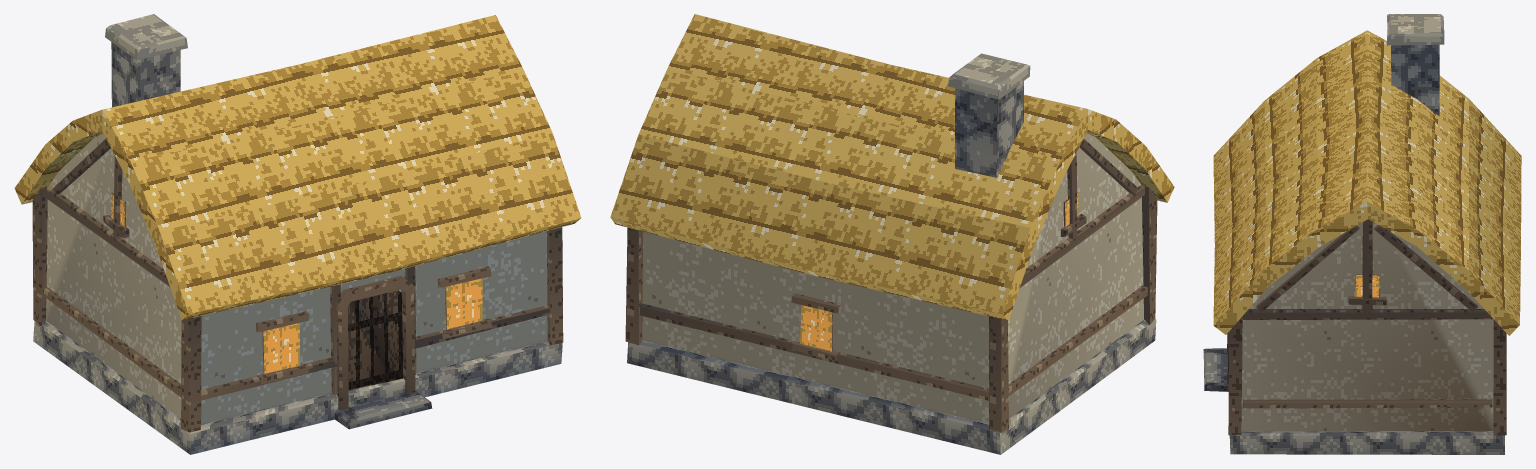
The model's file is vlg.cottage.glb.
3 renders of one model, left to right at view 1: azimuth 30°, elevation 25°; view 2: azimuth 150°, elevation 25°; view 3: azimuth 270°, elevation 25°, orthographic. The views are drawn at different scales.
Visible parts, largest first — view 1: kit_roof, kit_walls, kit_stonework, kit_fittings, kit_frame; view 2: kit_roof, kit_walls, kit_stonework, kit_frame, kit_fittings; view 3: kit_roof, kit_walls, kit_frame, kit_stonework, kit_fittings.
Part boxes in pixels (x1=…): kit_roof: x1=14, y1=15, x2=581, y2=319; kit_walls: x1=46, y1=133, x2=547, y2=424; kit_stonework: x1=33, y1=14, x2=562, y2=454; kit_fittings: x1=103, y1=192, x2=492, y2=429; kit_frame: x1=32, y1=138, x2=563, y2=432; kit_roof: x1=610, y1=14, x2=1174, y2=320; kit_walls: x1=642, y1=133, x2=1143, y2=423; kit_stonework: x1=627, y1=53, x2=1156, y2=454; kit_frame: x1=625, y1=138, x2=1157, y2=432; kit_fittings: x1=791, y1=192, x2=1086, y2=360; kit_roof: x1=1213, y1=30, x2=1521, y2=335; kit_walls: x1=1241, y1=222, x2=1493, y2=431; kit_frame: x1=1228, y1=219, x2=1506, y2=435; kit_stonework: x1=1229, y1=14, x2=1504, y2=454; kit_fittings: x1=1203, y1=274, x2=1386, y2=391.
Size of the model in its own units: 7.57 by 6.13 by 5.95.
Materials: 8 (8 with a texture image).
